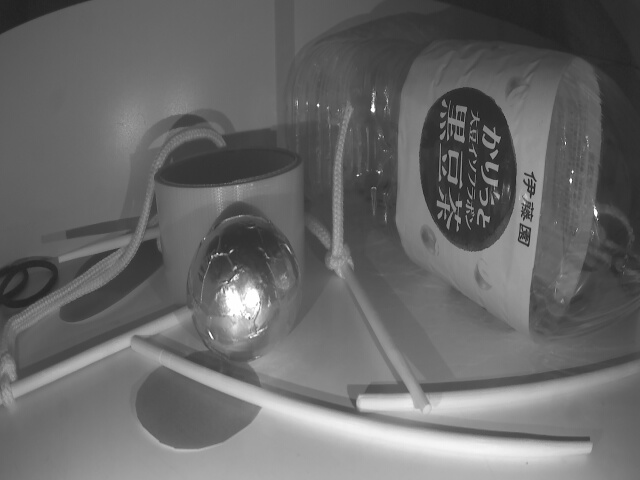Live: (185, 217, 301, 361)
